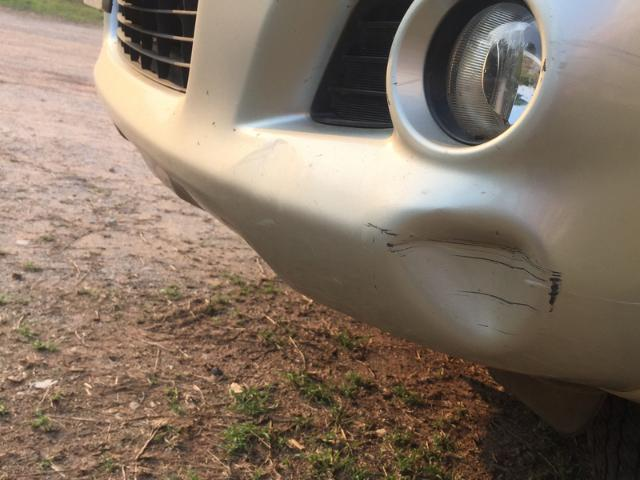Bumper: (217, 134, 627, 359)
